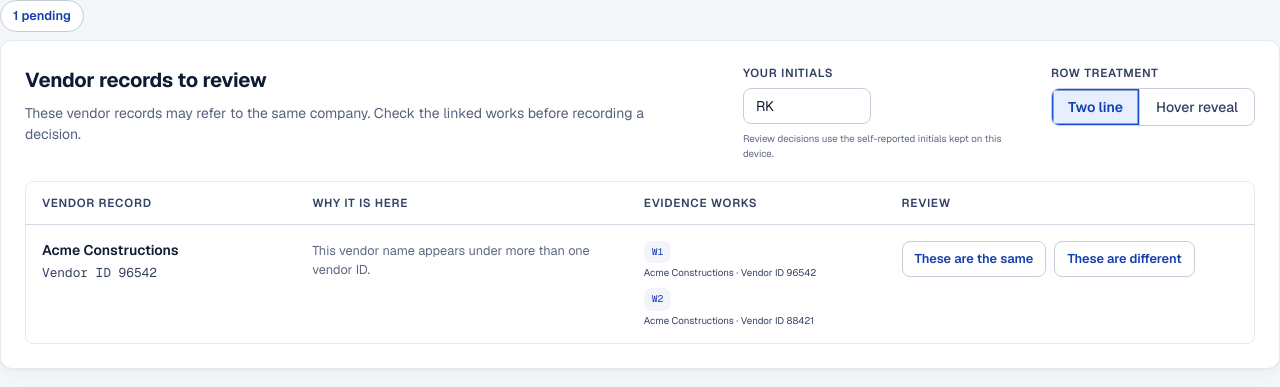
it: AliasReviewQueue › reports a failed decision as a save error without removing the row
The image size is (1280, 387).
Click the button "These are the same".
click(974, 259)  # box [902,241,1046,277]
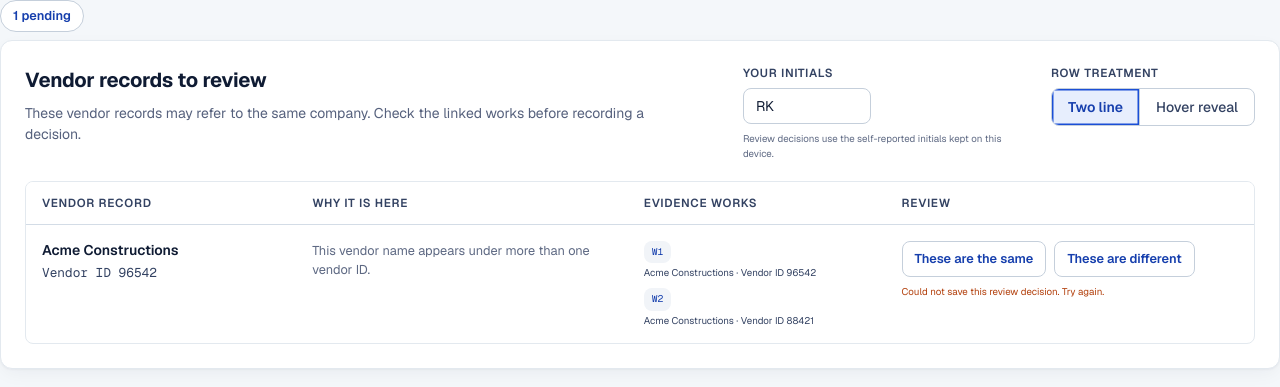
Expected: the text "Vendor ID 96542" is shown, [42,264,157,281]
Expected: the message reads "Could not save this review decision. Try again.", [902,285,1104,298]
